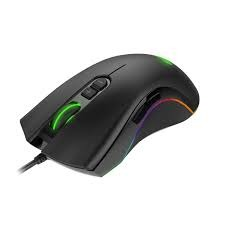mouse: (20, 53, 201, 179)
